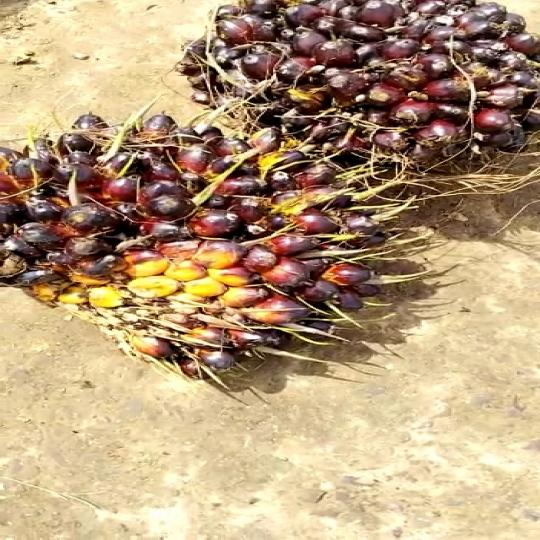kurang masak: (0, 103, 437, 368), (179, 1, 540, 215)
